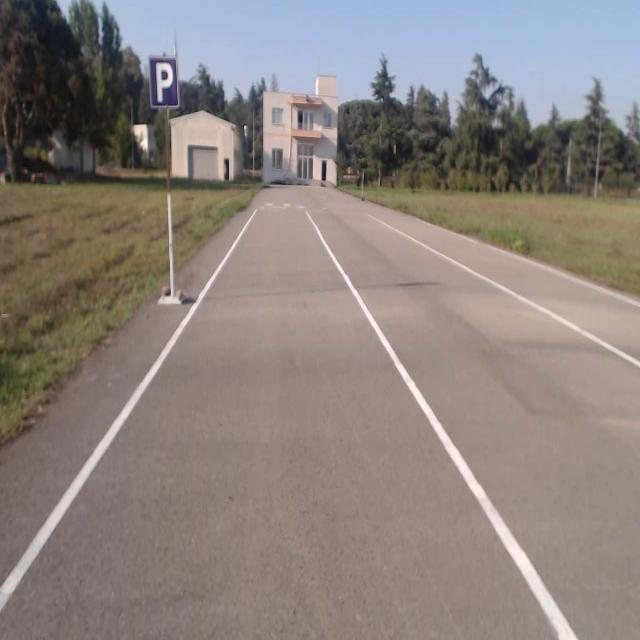park: (148, 55, 178, 109)
